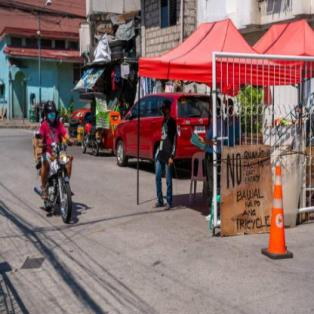Motocicleta: (32, 131, 86, 231)
